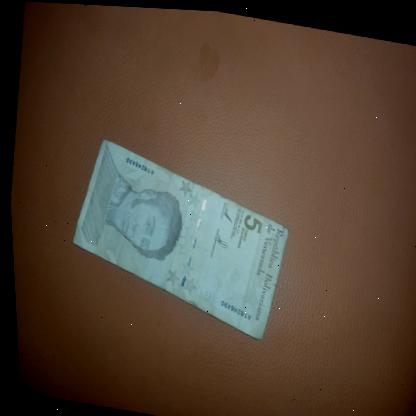vef_front: (56, 133, 298, 342)
